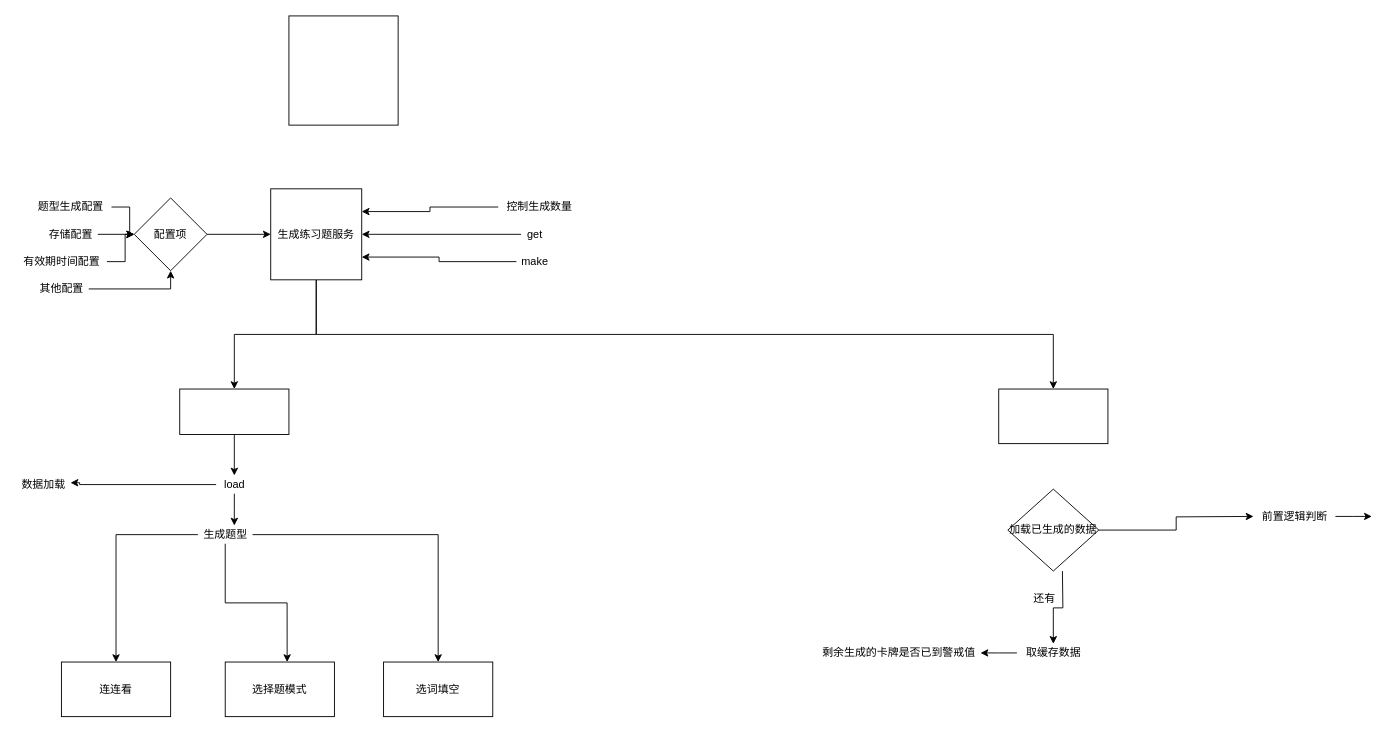
This 1395x733 diagram has some shape labels left out. The shapes that lost their labels are listed below. From the top down, each one's centre as x and y in pixels, then its label:
At pixel 343 70: "在线练习的代码逻辑结构".
At pixel 234 411: "make 服务实现".
At pixel 1053 416: "get 服务实现".
